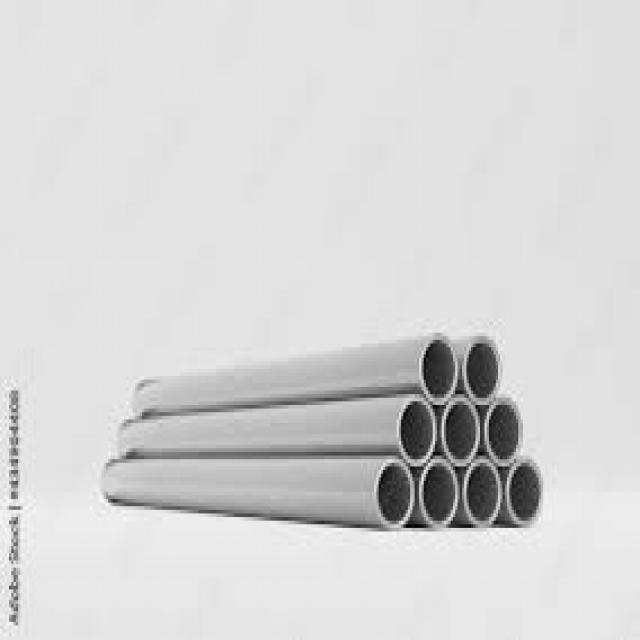pipe: (420, 335, 459, 399), (466, 337, 502, 400), (400, 399, 436, 462), (442, 398, 477, 461), (376, 462, 412, 523), (465, 462, 502, 521), (420, 460, 455, 522), (486, 401, 521, 463), (509, 460, 542, 522)
